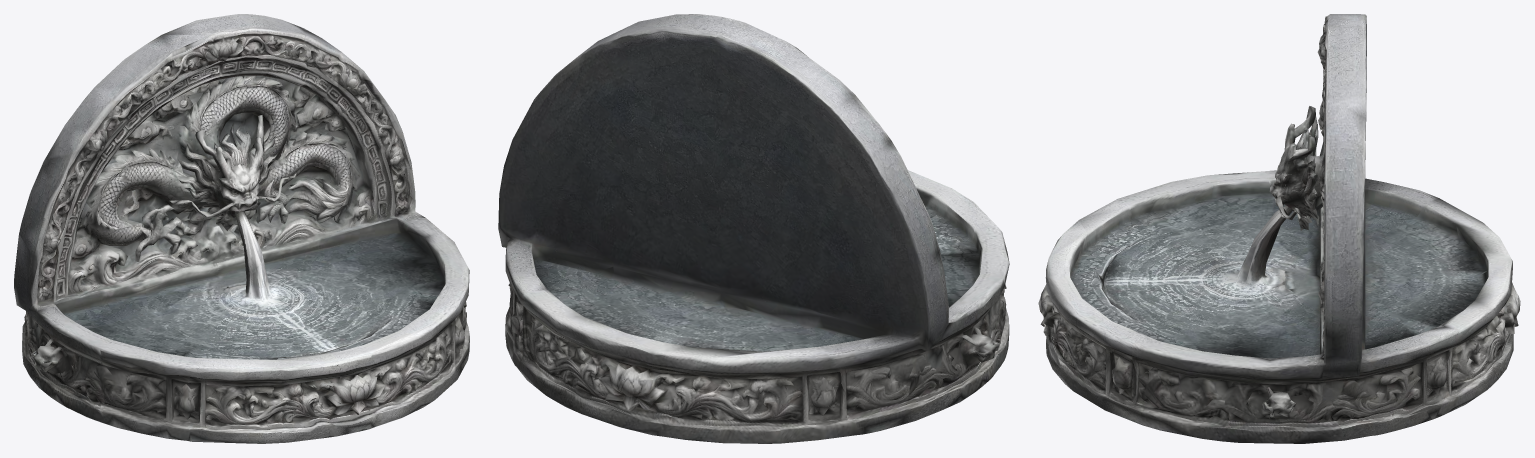
Rendered from longquan.glb.
The picture shows the model from 3 angles, left to right: view 1: azimuth 30°, elevation 25°; view 2: azimuth 150°, elevation 25°; view 3: azimuth 270°, elevation 25°; orthographic projection. The views are drawn at different scales.
Bounding box in the file's own units: 0.9981 × 0.6786 × 0.9451.
1 material, 1 textured.
